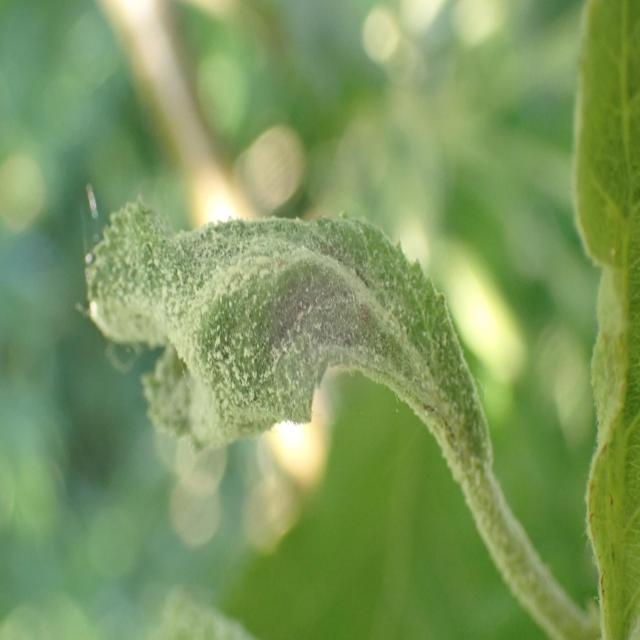Powdery_mildew: (78, 160, 498, 526)
